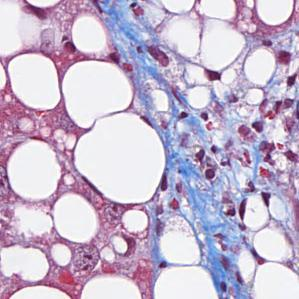inflammation: (184, 139, 241, 182), (234, 115, 269, 140)
